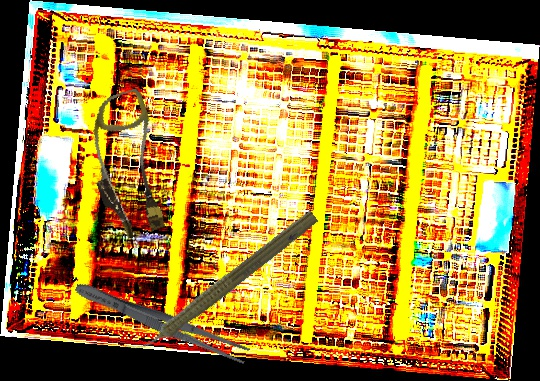Cannula: (72, 87, 183, 243)
Dressing Forceps: (71, 276, 252, 368)
Handpiece: (124, 202, 322, 366)
